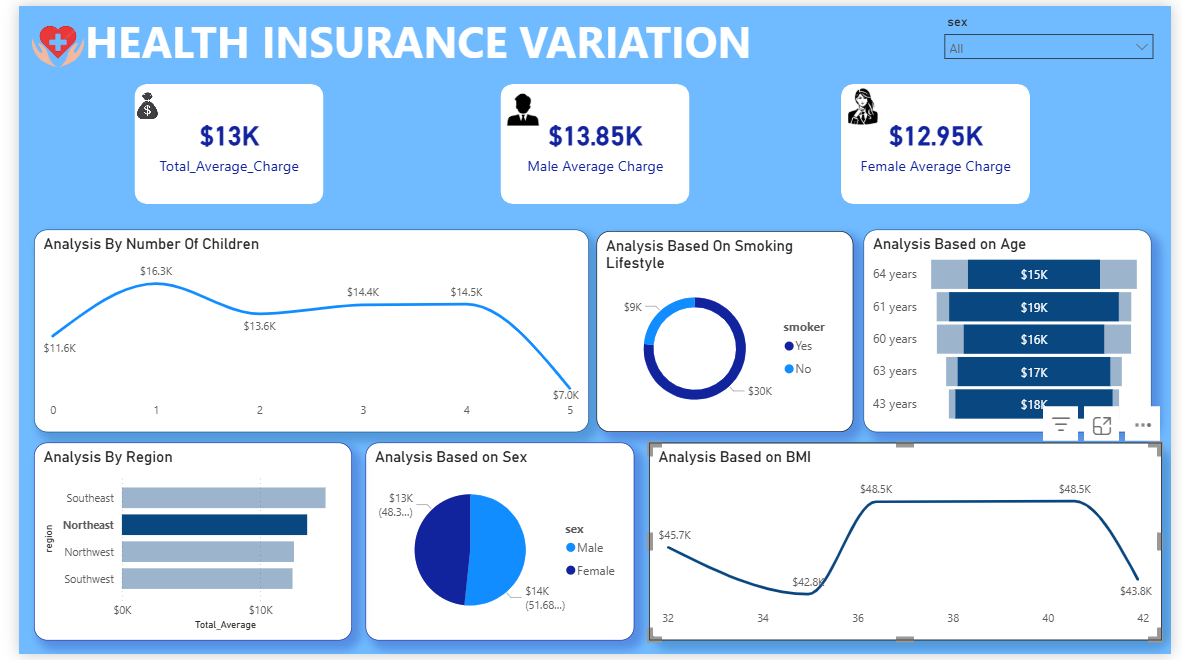

The dashboard page shown, as its layout file describes it:
{"tool":"powerbi","page":{"name":"Dashboard","canvas":[1280,720],"ordinal":0},"visuals":[{"type":"textbox","box":[68.3,0,1211.7,86.7],"z":0},{"type":"image","box":[0,3.3,86.7,83.3],"z":1000},{"type":"shape","box":[128.3,86.7,210,133.3],"z":2000},{"type":"shape","box":[535,86.7,210,133.3],"z":3000},{"type":"shape","box":[913.3,86.7,210,133.3],"z":4000},{"type":"card","fields":{"Values":["insurance.Total_Average"]},"box":[141.7,98.3,183.3,108.3],"z":5000},{"type":"card","fields":{"Values":["insurance.Male Average Charge"]},"box":[548.3,98.3,183.3,108.3],"z":6000},{"type":"card","fields":{"Values":["insurance.Female Average Charge"]},"box":[926.7,98.3,183.3,108.3],"z":7000},{"type":"image","box":[535,86.7,50,56.7],"z":8000},{"type":"image","box":[913.3,91.7,48.3,40],"z":9000},{"type":"image","box":[113.3,86.7,58.3,48.3],"z":10000},{"type":"lineChart","title":"Analysis By Number Of Children","fields":{"Category":["insurance.children"],"Y":["insurance.Total_Average"]},"box":[16.7,248.3,616.7,225],"z":11000},{"type":"donutChart","title":"Analysis Based On Smoking Lifestyle","fields":{"Category":["insurance.smoker"],"Y":["insurance.Total_Average"]},"box":[641.7,250,285,223.3],"z":12000},{"type":"pieChart","title":"Analysis Based on Sex","fields":{"Category":["insurance.sex"],"Y":["insurance.Total_Average"]},"box":[385,485,298.3,220],"z":13000},{"type":"lineChart","title":"Analysis Based on  BMI","fields":{"Category":["insurance.bmi"],"Y":["insurance.Total_Average"]},"box":[700,485,570,220],"z":14000},{"type":"barChart","title":"Analysis By Region","fields":{"Category":["insurance.region"],"Y":["insurance.Total_Average"]},"box":[16.7,485,353.3,220],"z":15000},{"type":"funnel","title":"Analysis Based on Age","fields":{"Category":["insurance.Years"],"Y":["insurance.Total_Average"]},"box":[938.3,248.3,320,225],"z":16000},{"type":"slicer","fields":{"Values":["insurance.sex"]},"box":[1018.3,3.3,251.7,65],"z":17000}]}

Visuals, with their boxes in screenshot pixels (x1, y1, x2, y2), scaled from the page's 1280x720 canvas onto the 1182x660 screenshot:
textbox: select_region(63, 0, 1181, 79)
image: select_region(0, 3, 80, 79)
shape: select_region(118, 79, 312, 202)
shape: select_region(494, 79, 688, 202)
shape: select_region(843, 79, 1037, 202)
card - insurance.Total_Average: select_region(131, 90, 300, 189)
card - insurance.Male Average Charge: select_region(506, 90, 676, 189)
card - insurance.Female Average Charge: select_region(856, 90, 1025, 189)
image: select_region(494, 79, 540, 131)
image: select_region(843, 84, 888, 121)
image: select_region(105, 79, 158, 124)
"Analysis By Number Of Children" lineChart: select_region(15, 228, 585, 434)
"Analysis Based On Smoking Lifestyle" donutChart: select_region(593, 229, 856, 434)
"Analysis Based on Sex" pieChart: select_region(356, 445, 631, 646)
"Analysis Based on  BMI" lineChart: select_region(646, 445, 1173, 646)
"Analysis By Region" barChart: select_region(15, 445, 342, 646)
"Analysis Based on Age" funnel: select_region(866, 228, 1162, 434)
slicer - insurance.sex: select_region(940, 3, 1173, 63)
